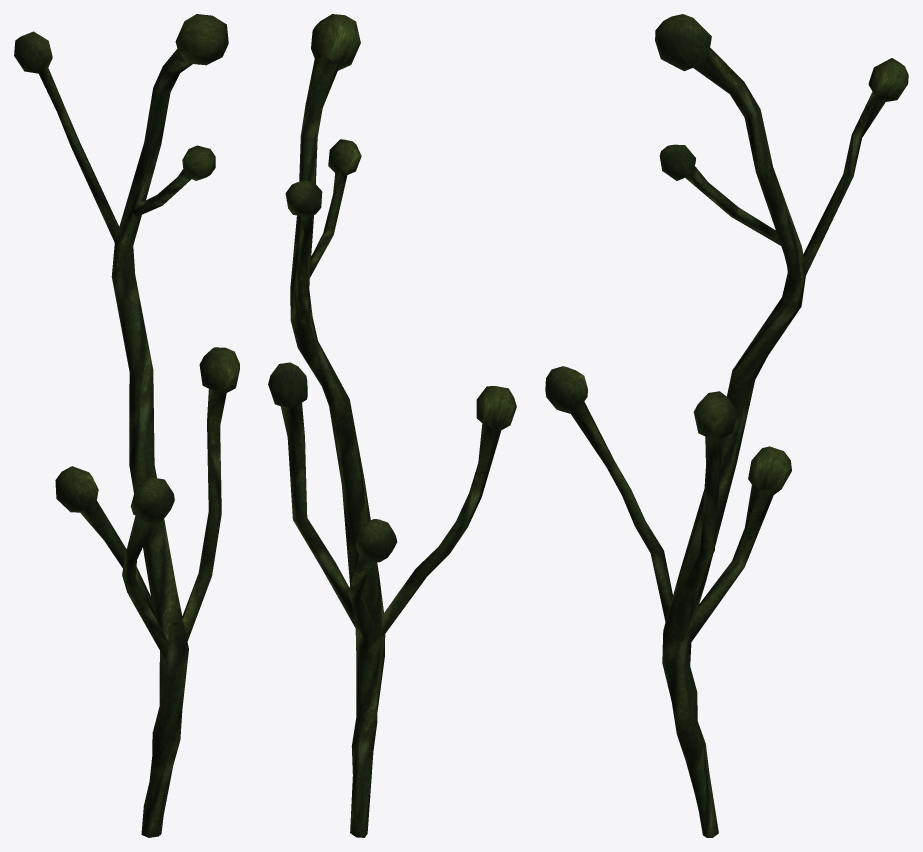
File: PondWeed.005_FBX_still.fbx
3 views of the same model, side by side, from view 1: azimuth 30°, elevation 25°; view 2: azimuth 150°, elevation 25°; view 3: azimuth 270°, elevation 25° (orthographic). The views are drawn at different scales.
Parts seen in each view (by area): view 1: PondWeed.005_gameasset; view 2: PondWeed.005_gameasset; view 3: PondWeed.005_gameasset.
Part boxes in pixels (x1,y1,x2,y2): PondWeed.005_gameasset: (14, 14, 239, 837); PondWeed.005_gameasset: (268, 14, 516, 837); PondWeed.005_gameasset: (545, 14, 908, 837).
Size of the model in its own units: 2.77 by 12.29 by 4.85.
Materials: 1 (1 with a texture image).
